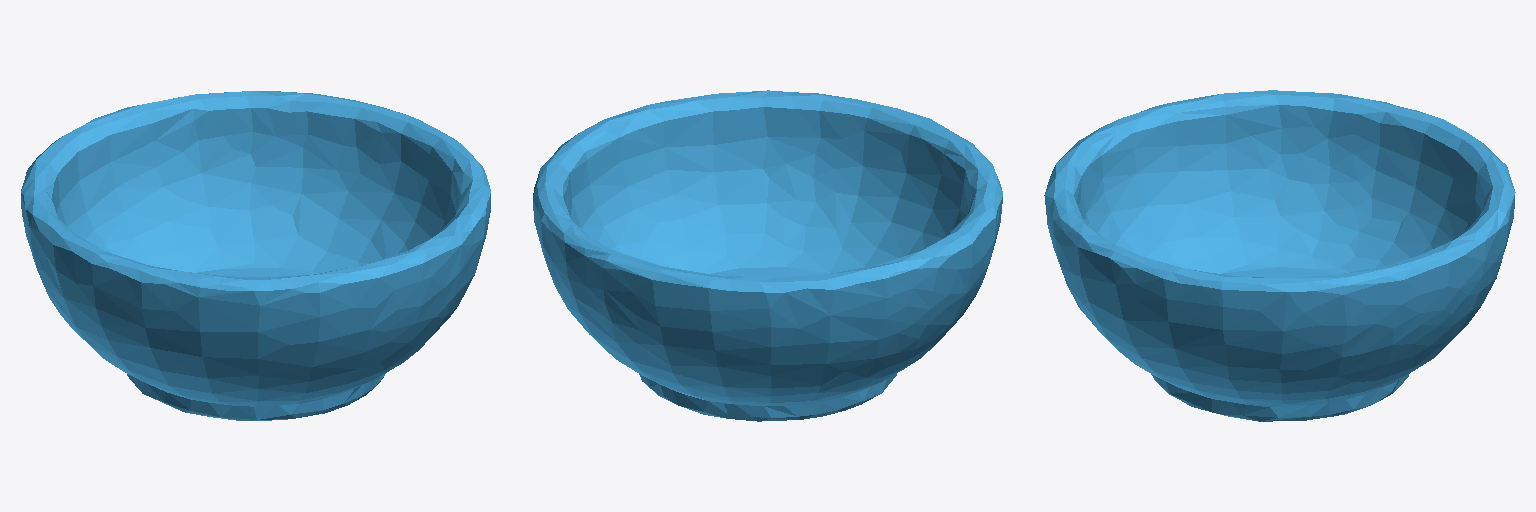
URDF robot description (Bowl_8eab5598b81afd7bab5b523beb03efcd_S):
<?xml version="1.0"?>
<robot name="Bowl_8eab5598b81afd7bab5b523beb03efcd_S">
  <link name="base"/>
  <link name="link_0">
  <visual>
    <origin xyz="0.0 0.0 0.0"/>
    <geometry>
      <mesh filename="Bowl_8eab5598b81afd7bab5b523beb03efcd_S.obj" scale="1.0 1.0 1.0"/>
    </geometry>
  </visual>
  <collision>
    <origin xyz="0.0 0.0 0.0"/>
    <geometry>
      <mesh filename="collision.obj" scale="1.0 1.0 1.0"/>
    </geometry>
  </collision>
  </link>
  <joint name="joint_0" type="fixed">
    <origin rpy="0 0 0" xyz="0 0 0"/>
    <child link="link_0"/>
    <parent link="base"/>
  </joint>
</robot>

--- Render facts (derived) ---
The picture shows the robot from 3 angles, left to right: view 1: azimuth 30°, elevation 25°; view 2: azimuth 150°, elevation 25°; view 3: azimuth 270°, elevation 25°; orthographic projection.
Robot: Bowl_8eab5598b81afd7bab5b523beb03efcd_S — 2 links, 1 joints (1 fixed); root link base; default pose: all joints at 0.
Links seen in each view (by area): view 1: link_0; view 2: link_0; view 3: link_0.
Boxes of the visible links, box(x1,y1,x2,y2) form: link_0: box(21, 91, 490, 420); link_0: box(533, 90, 1002, 421); link_0: box(1044, 90, 1515, 421).
Size in the robot's own frame: 0.1595 by 0.1595 by 0.0687 metres.
1 mesh visuals loaded from 1 distinct referenced files (1 OBJ).